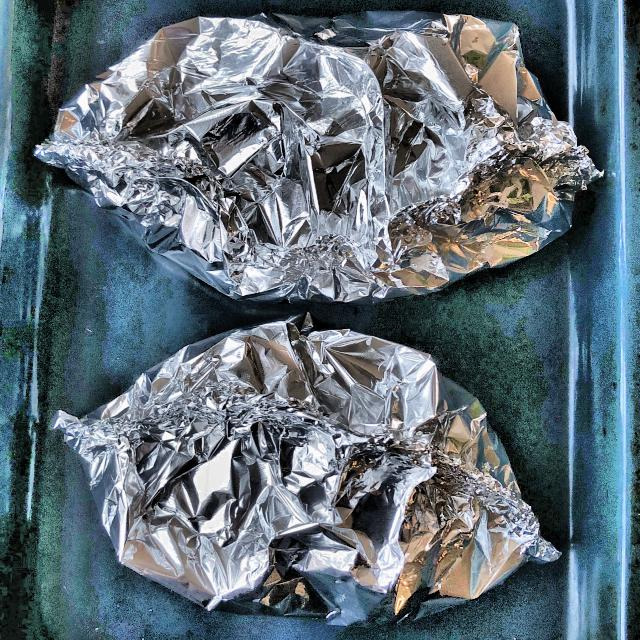Foil: (31, 7, 604, 311), (32, 309, 562, 615)
